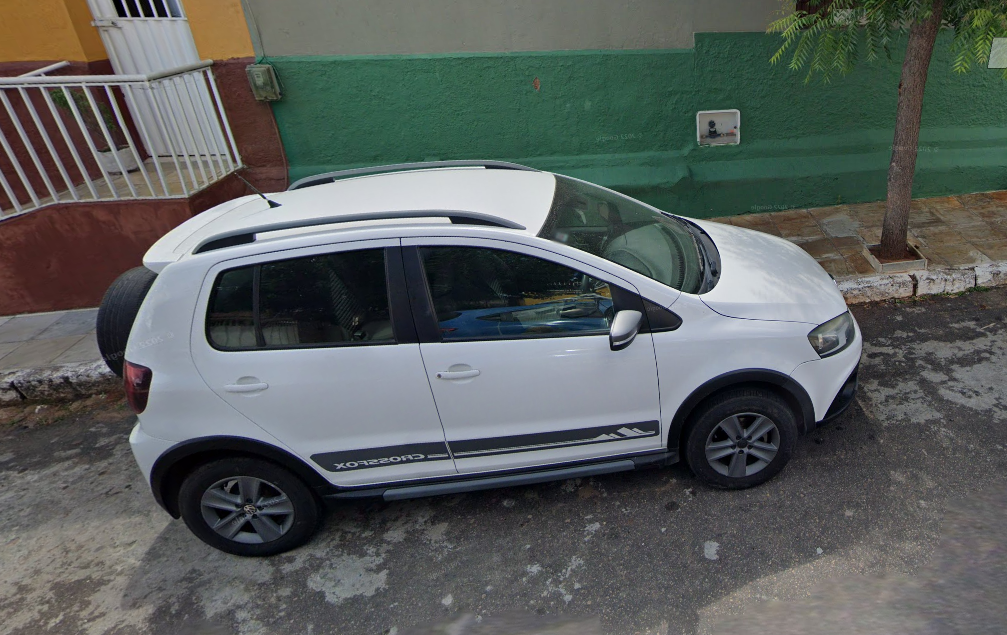car: (92, 154, 880, 563)
